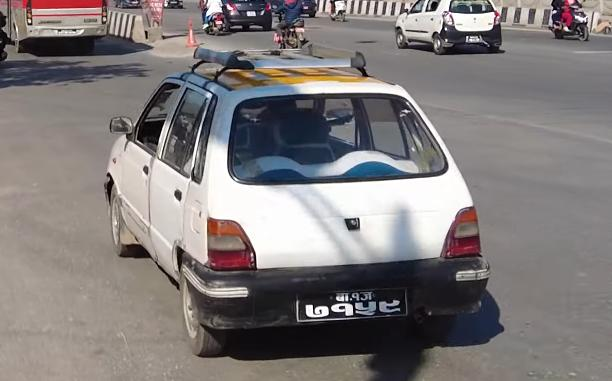bike: (273, 8, 307, 52)
bus: (0, 0, 112, 55)
car: (222, 0, 276, 32)
scooter: (547, 0, 596, 44), (198, 1, 228, 40)
taxi: (89, 46, 495, 362), (392, 1, 504, 58)
